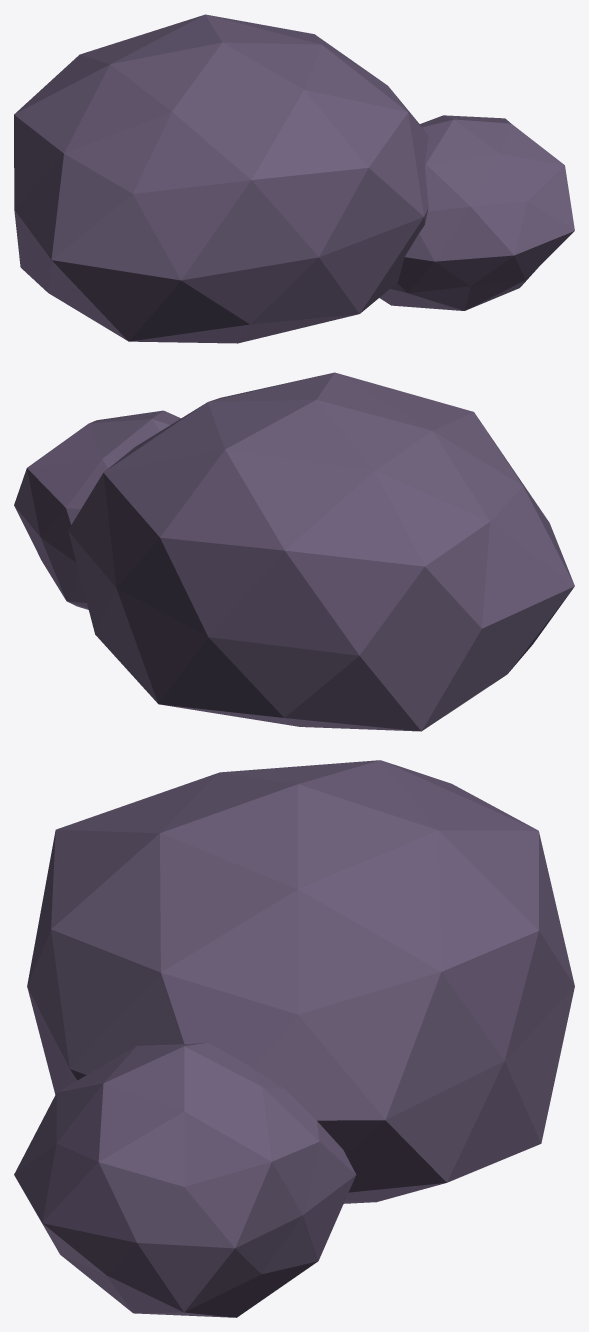
Rendered from boulder.glb.
3 views of the same model, one above another, from view 1: azimuth 30°, elevation 25°; view 2: azimuth 150°, elevation 25°; view 3: azimuth 270°, elevation 25° (orthographic). The views are drawn at different scales.
Visible parts, largest first — view 1: cave-boulder; view 2: cave-boulder; view 3: cave-boulder.
Part boxes in pixels (x1,y1,x2,y2): cave-boulder: (14, 14, 574, 343); cave-boulder: (14, 372, 574, 731); cave-boulder: (14, 760, 574, 1317).
Bounding box in the file's own units: 0.7996 × 0.429 × 0.552.
